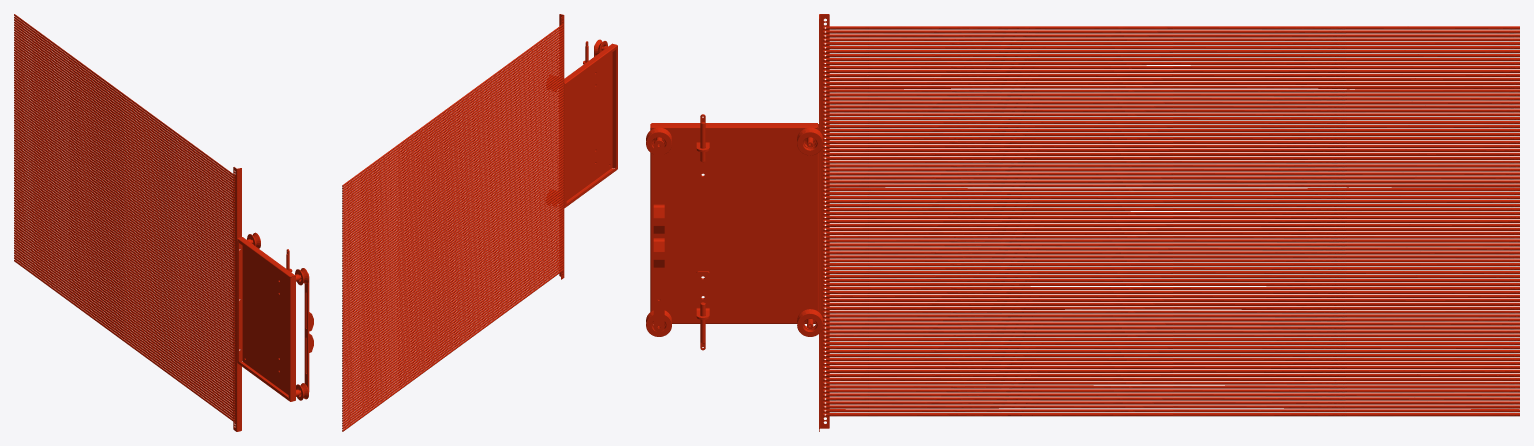
File: kyr26_kayan_m.obj
The picture shows the model from 3 angles, left to right: view 1: azimuth 30°, elevation 25°; view 2: azimuth 150°, elevation 25°; view 3: azimuth 270°, elevation 25°; orthographic projection. The views are drawn at different scales.
Parts seen in each view (by area): view 1: KYR26-A-001-004-00, KYR26-A-001-011-00, KYR26-A-001-005-090, KYR26-A-001-005-007, KYR26-A-001-005-013, KYR26-A-001-005-032, KYR26-A-001-005-060, KYR26-A-001-005-094, KYR26-A-001-005-098, KYR26-A-001-005-003, KYR26-A-001-005-005, KYR26-A-001-005-019 (+90 smaller); view 2: KYR26-A-001-004-00, KYR26-A-001-011-00, KYR26-A-001-005-010, KYR26-A-001-005-034, KYR26-A-001-005-052, KYR26-A-001-005-054, KYR26-A-001-005-008, KYR26-A-001-005-022, KYR26-A-001-005-024, KYR26-A-001-005-026, KYR26-A-001-005-046, KYR26-A-001-005-056 (+89 smaller); view 3: KYR26-A-001-004-00, KYR26-A-001-011-00, KYR26-A-001-005-008, KYR26-A-001-005-009, KYR26-A-001-005-010, KYR26-A-001-005-016, KYR26-A-001-005-017, KYR26-A-001-005-018, KYR26-A-001-005-019, KYR26-A-001-005-020, KYR26-A-001-005-021, KYR26-A-001-005-022 (+90 smaller).
Boxes of the visible parts, x1,y1,x2,y2 form: KYR26-A-001-004-00: (237,237,295,401); KYR26-A-001-011-00: (233,167,241,431); KYR26-A-001-005-090: (14,239,235,402); KYR26-A-001-005-007: (14,119,235,282); KYR26-A-001-005-013: (14,144,235,307); KYR26-A-001-005-032: (14,81,235,244); KYR26-A-001-005-060: (14,164,235,327); KYR26-A-001-005-094: (14,249,235,412); KYR26-A-001-005-098: (14,259,235,422); KYR26-A-001-005-003: (14,129,235,292); KYR26-A-001-005-005: (14,124,235,287); KYR26-A-001-005-019: (14,159,235,322); KYR26-A-001-004-00: (564,43,617,208); KYR26-A-001-011-00: (559,14,564,279); KYR26-A-001-005-010: (342,121,563,284); KYR26-A-001-005-034: (342,86,563,249); KYR26-A-001-005-052: (342,41,563,204); KYR26-A-001-005-054: (342,36,563,199); KYR26-A-001-005-008: (342,126,563,289); KYR26-A-001-005-022: (342,116,563,279); KYR26-A-001-005-024: (342,111,563,274); KYR26-A-001-005-026: (342,106,563,269); KYR26-A-001-005-046: (342,56,563,219); KYR26-A-001-005-056: (342,31,563,194); KYR26-A-001-004-00: (650,123,818,323); KYR26-A-001-011-00: (819,14,829,431); KYR26-A-001-005-008: (823,188,1519,191); KYR26-A-001-005-009: (823,184,1519,187); KYR26-A-001-005-010: (823,180,1519,183); KYR26-A-001-005-016: (823,243,1519,246); KYR26-A-001-005-017: (823,247,1519,250); KYR26-A-001-005-018: (823,251,1519,254); KYR26-A-001-005-019: (823,255,1519,258); KYR26-A-001-005-020: (823,259,1519,262); KYR26-A-001-005-021: (823,176,1519,179); KYR26-A-001-005-022: (823,172,1519,175).
Bounding box in the file's own units: 0.1045 × 1.05 × 2.01.
